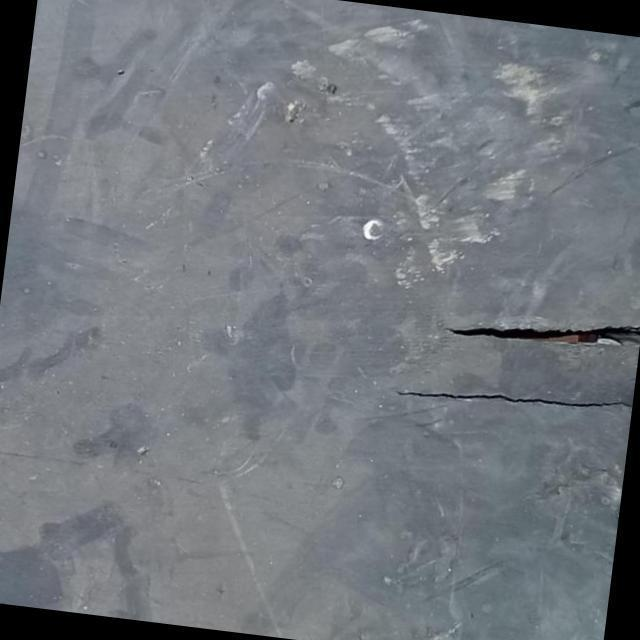Tear: (445, 258, 640, 358), (390, 368, 638, 429)
